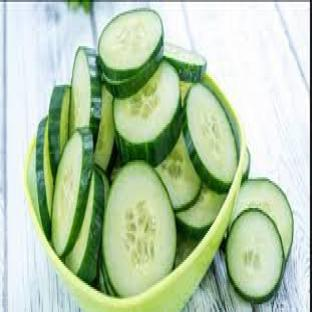Cucumber: (103, 162, 176, 296), (114, 62, 182, 165), (183, 83, 237, 192), (226, 208, 283, 304), (53, 128, 93, 256), (230, 180, 293, 258), (66, 170, 108, 283), (99, 8, 163, 80), (156, 135, 201, 211), (70, 47, 102, 142), (176, 185, 226, 236), (102, 60, 160, 98), (36, 118, 53, 238), (49, 85, 70, 179), (164, 43, 206, 82), (95, 85, 114, 171), (28, 145, 42, 227), (175, 232, 198, 267), (95, 164, 110, 206), (102, 262, 118, 296), (99, 262, 108, 294), (110, 156, 121, 182), (242, 147, 250, 182), (180, 81, 191, 105)
